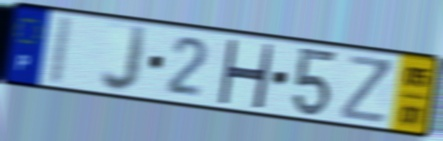2: (163, 35, 213, 100)
5: (290, 44, 339, 118)
H: (215, 37, 276, 111)
I: (44, 13, 76, 88)
J: (99, 22, 151, 95)
Z: (339, 52, 394, 126)
